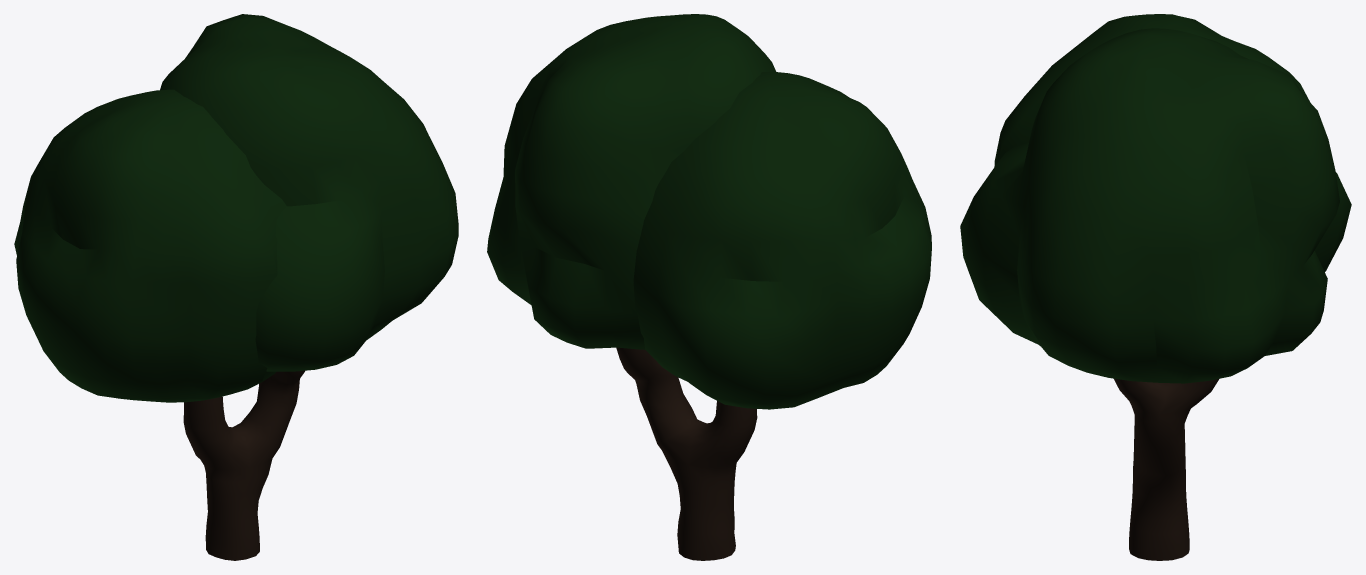
Rendered from oak-2.obj.
The picture shows the model from 3 angles, left to right: view 1: azimuth 30°, elevation 25°; view 2: azimuth 150°, elevation 25°; view 3: azimuth 270°, elevation 25°; orthographic projection. The views are drawn at different scales.
Visible parts, largest first — view 1: Leaves_Sphere, Trunk_Cylinder.002; view 2: Leaves_Sphere, Trunk_Cylinder.002; view 3: Leaves_Sphere, Trunk_Cylinder.002.
Boxes of the visible parts, <box> form: Leaves_Sphere: <box>14,14,458,402</box>; Trunk_Cylinder.002: <box>183,370,304,560</box>; Leaves_Sphere: <box>487,14,931,409</box>; Trunk_Cylinder.002: <box>616,347,757,560</box>; Leaves_Sphere: <box>960,14,1351,383</box>; Trunk_Cylinder.002: <box>1114,378,1219,560</box>.
Size of the model in its own units: 2.86 by 3.44 by 2.36.
